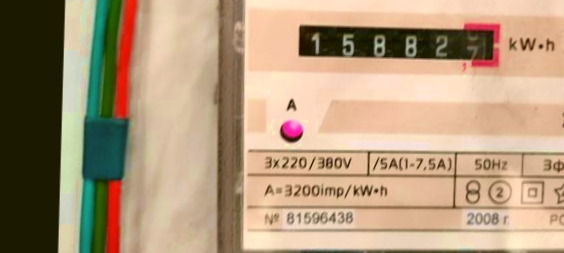1: (310, 29, 322, 55)
2: (434, 33, 450, 58)
5: (341, 31, 355, 57)
7: (465, 42, 480, 60)
8: (372, 32, 388, 57), (404, 33, 419, 58)
screen: (288, 13, 509, 76)
